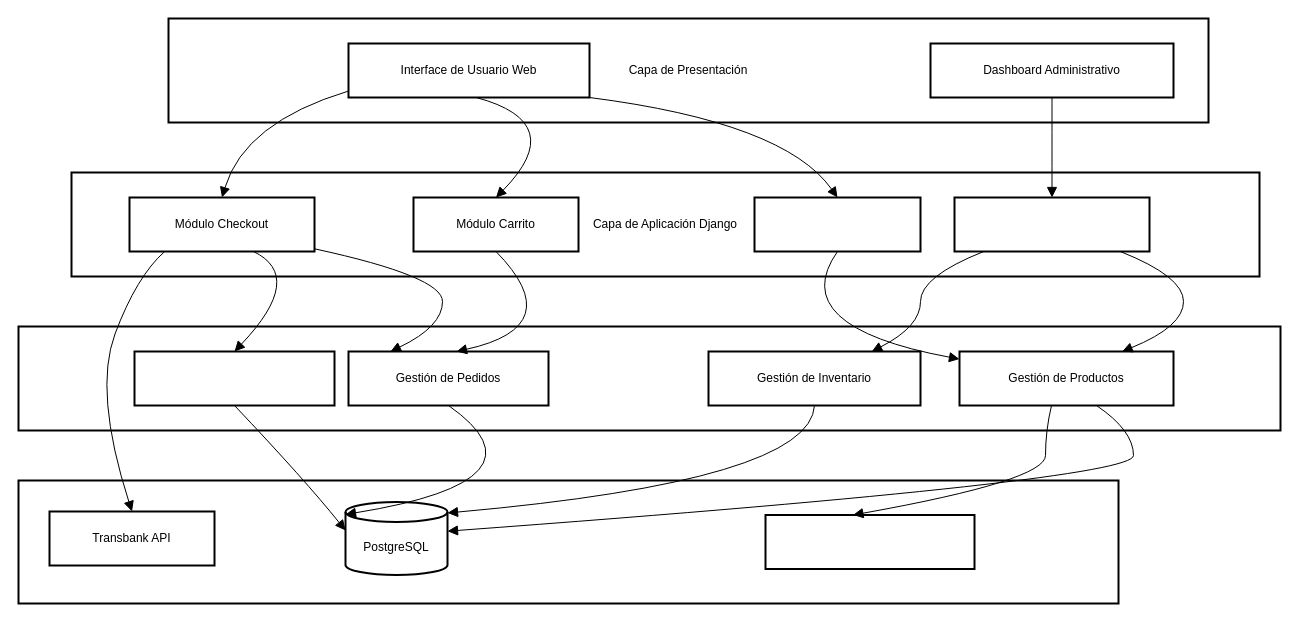
Image size: 1298x621. Some labels were removed from this diagram. The box of each missing label's shape, as (x1, y1, x2, y2) in pixels:
Capa de Dominio: (17, 325, 1281, 431)
Capa de Infraestructura: (17, 479, 1119, 604)
DigitalOcean Spaces: (764, 514, 975, 570)
Gestión de Clientes: (133, 350, 335, 406)
Módulo Dashboard: (953, 196, 1150, 252)
Módulo Ventas: (753, 196, 921, 252)
